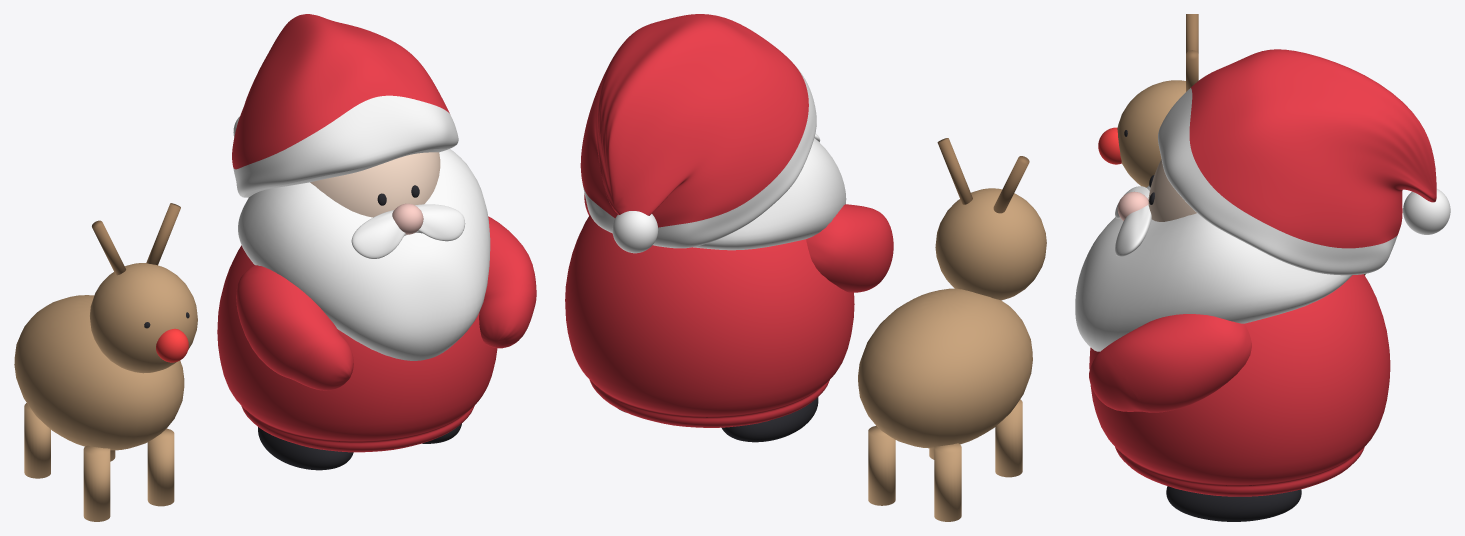
The model's file is rudolph.glb.
3 views of the same model, side by side, from view 1: azimuth 30°, elevation 25°; view 2: azimuth 150°, elevation 25°; view 3: azimuth 270°, elevation 25° (orthographic). The views are drawn at different scales.
Parts seen in each view (by area): view 1: rudolph_red, rudolph_white, rudolph_deer, rudolph_skin, rudolph_black, rudolph_brown, rudolph_rednose, rudolph_nose; view 2: rudolph_red, rudolph_deer, rudolph_white, rudolph_black, rudolph_brown; view 3: rudolph_red, rudolph_white, rudolph_deer, rudolph_black, rudolph_skin, rudolph_brown, rudolph_rednose, rudolph_nose.
Boxes of the visible parts, <box> form: rudolph_red: <box>217,14,536,452</box>; rudolph_white: <box>233,95,490,360</box>; rudolph_deer: <box>14,263,197,521</box>; rudolph_skin: <box>310,152,440,217</box>; rudolph_black: <box>144,185,461,470</box>; rudolph_brown: <box>92,203,180,275</box>; rudolph_rednose: <box>156,328,188,362</box>; rudolph_nose: <box>392,203,423,234</box>; rudolph_red: <box>565,14,893,427</box>; rudolph_deer: <box>858,188,1046,521</box>; rudolph_white: <box>582,67,846,253</box>; rudolph_black: <box>619,397,818,442</box>; rudolph_brown: <box>937,138,1029,213</box>; rudolph_red: <box>1089,49,1436,496</box>; rudolph_white: <box>1075,88,1450,351</box>; rudolph_deer: <box>1117,80,1365,275</box>; rudolph_black: <box>1124,130,1301,521</box>; rudolph_skin: <box>1148,159,1196,221</box>; rudolph_brown: <box>1186,14,1198,91</box>; rudolph_rednose: <box>1098,127,1121,164</box>; rudolph_nose: <box>1117,191,1148,220</box>.
Bounding box in the file's own units: 3.49 × 2.96 × 2.37.
